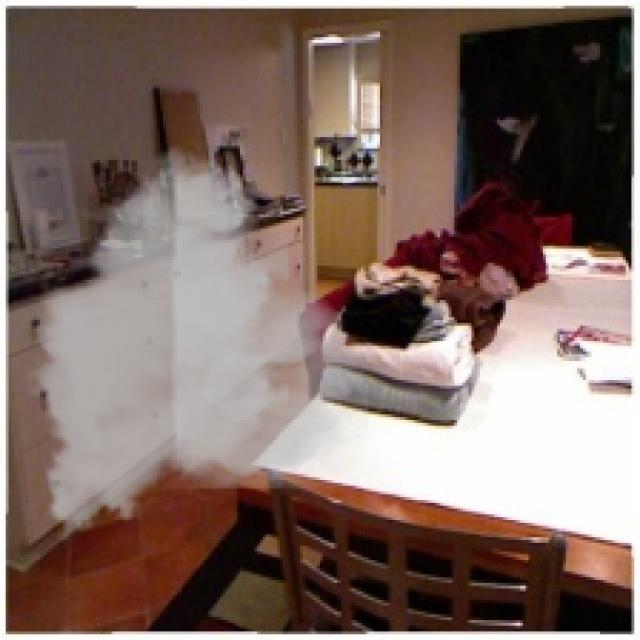smoke: (23, 134, 368, 552)
